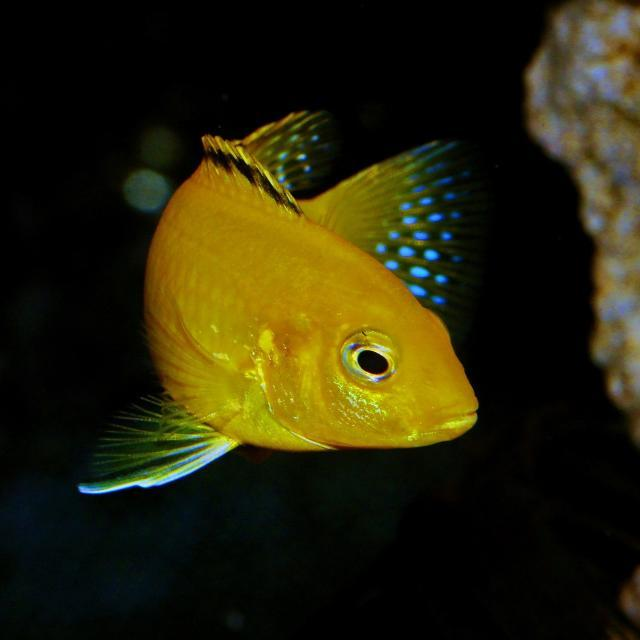YellowCichlid: (72, 80, 482, 494)
